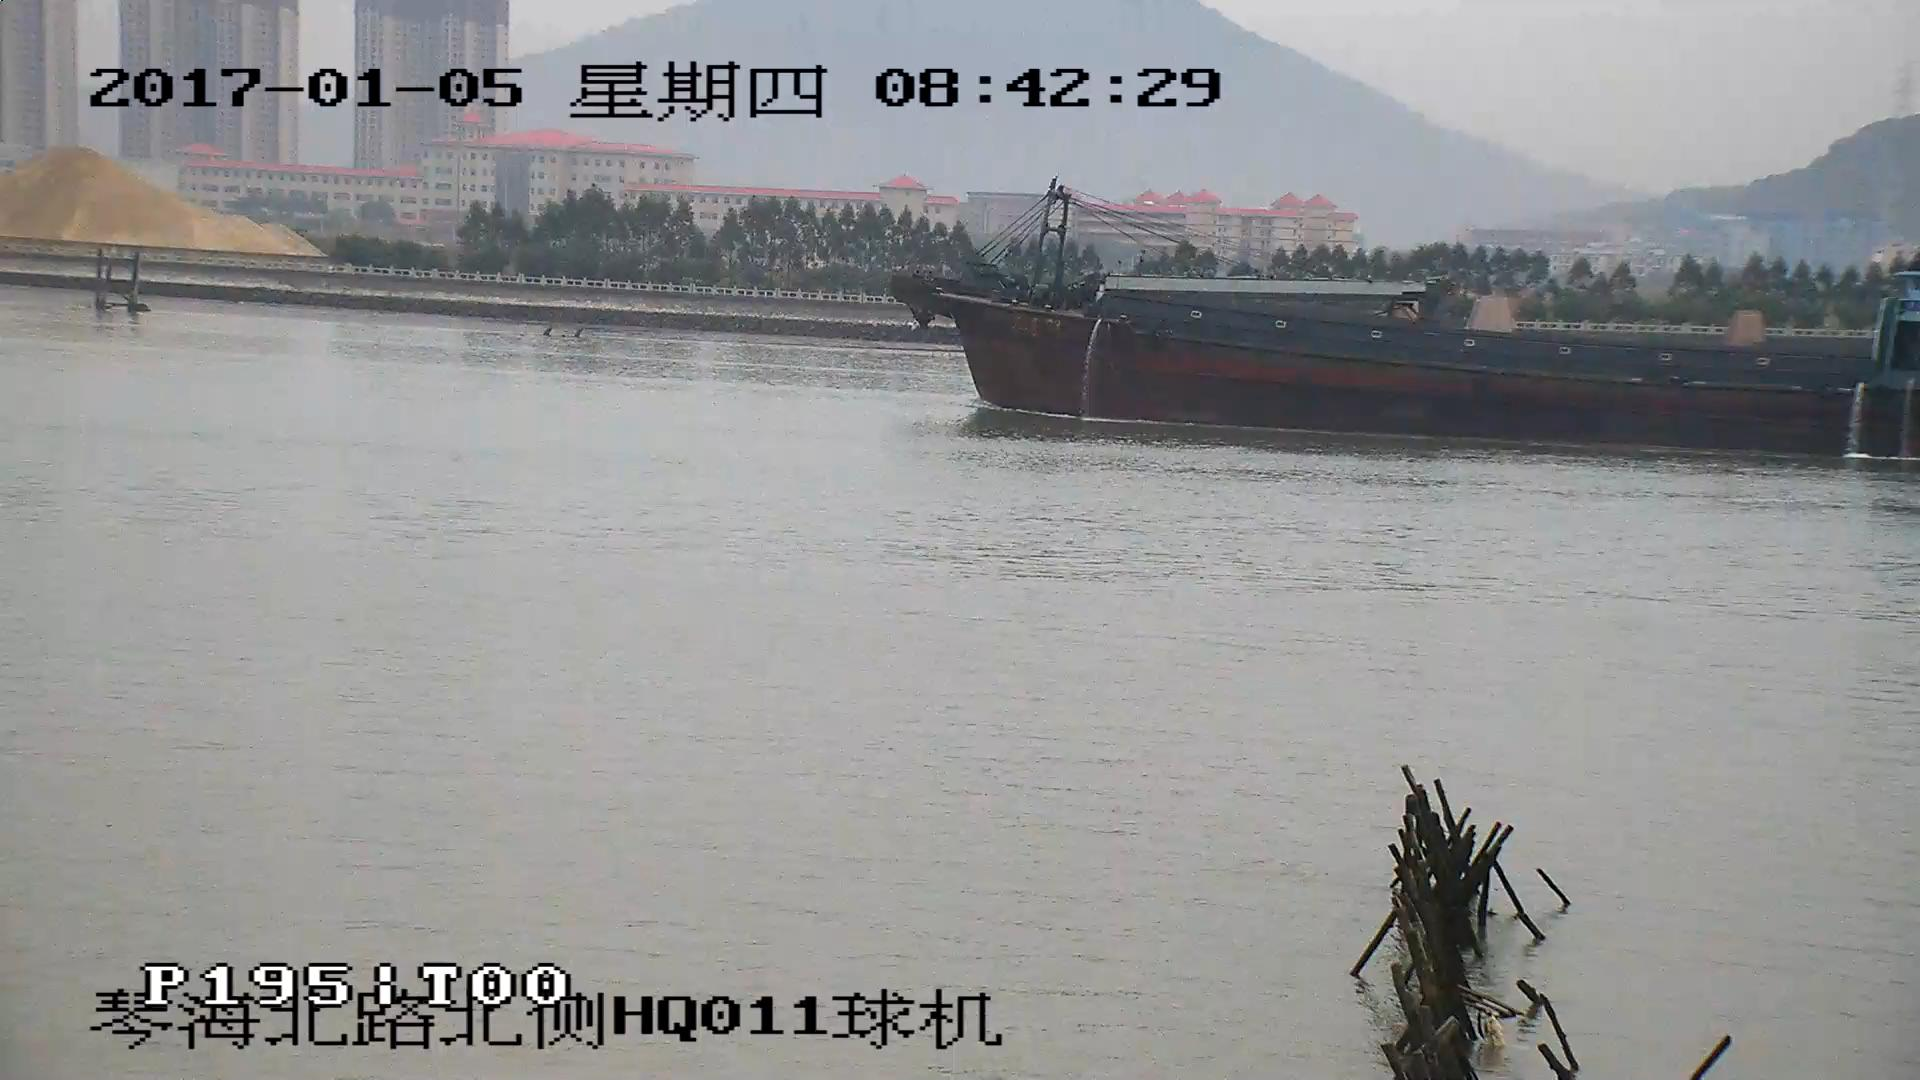bulk cargo carrier: (891, 180, 1920, 461)
